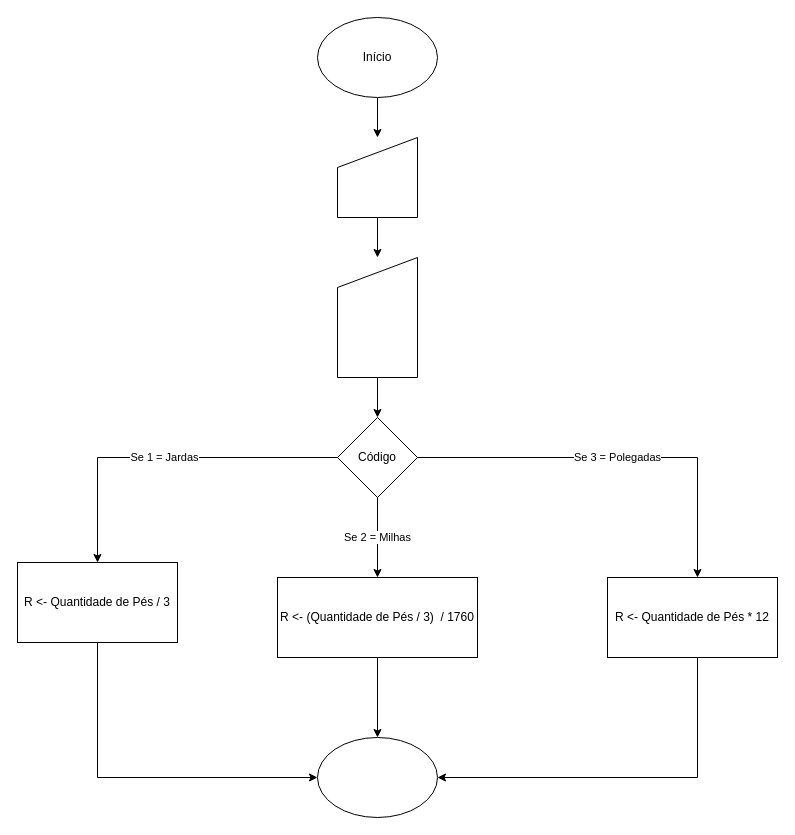
This 795x835 diagram has some shape labels left out. The shapes that lost their labels are listed below. From the top down, each one's centre as x and y in pixels, then its label:
At (377,177): "Quantidade de Pés".
At (377,317): "Códigos de definição de conversão;".
At (377,777): "Fim".
